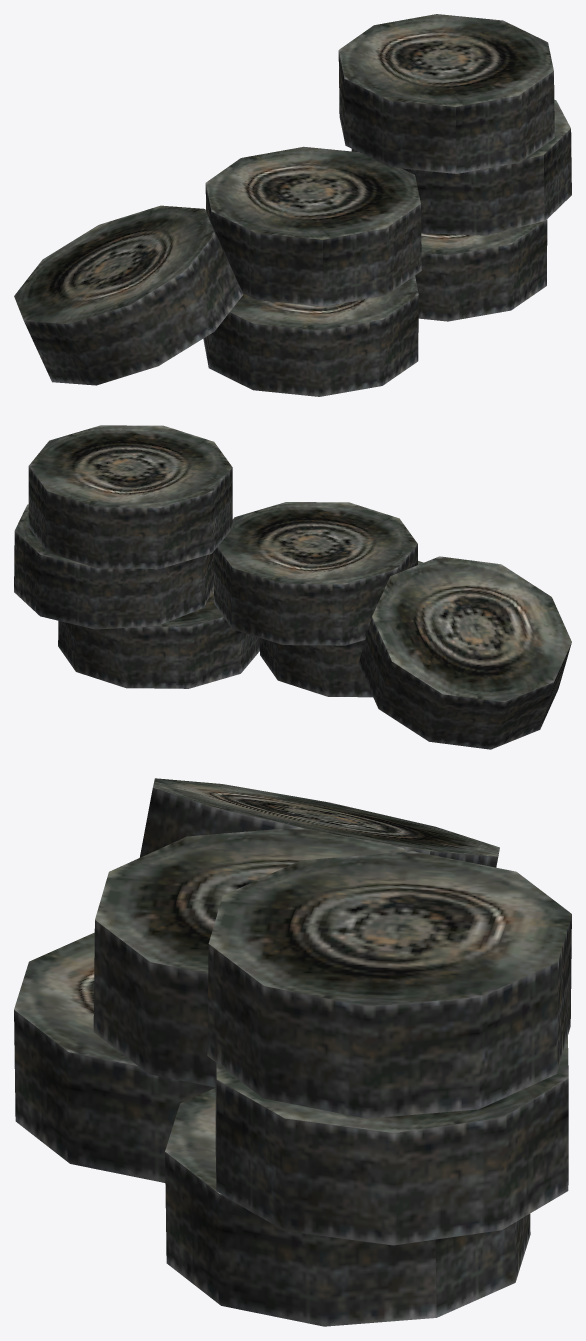
The model's file is Tire01.glb.
3 renders of one model, top to bottom at view 1: azimuth 30°, elevation 25°; view 2: azimuth 150°, elevation 25°; view 3: azimuth 270°, elevation 25°, orthographic. The views are drawn at different scales.
Parts seen in each view (by area): view 1: _Tire01; view 2: _Tire01; view 3: _Tire01.
Part boxes in pixels (x1=…): _Tire01: x1=14, y1=14, x2=571, y2=396; _Tire01: x1=14, y1=425, x2=571, y2=749; _Tire01: x1=14, y1=778, x2=571, y2=1326.
Bounding box in the file's own units: 3.68 × 1.31 × 1.92.
1 material, 1 textured.
